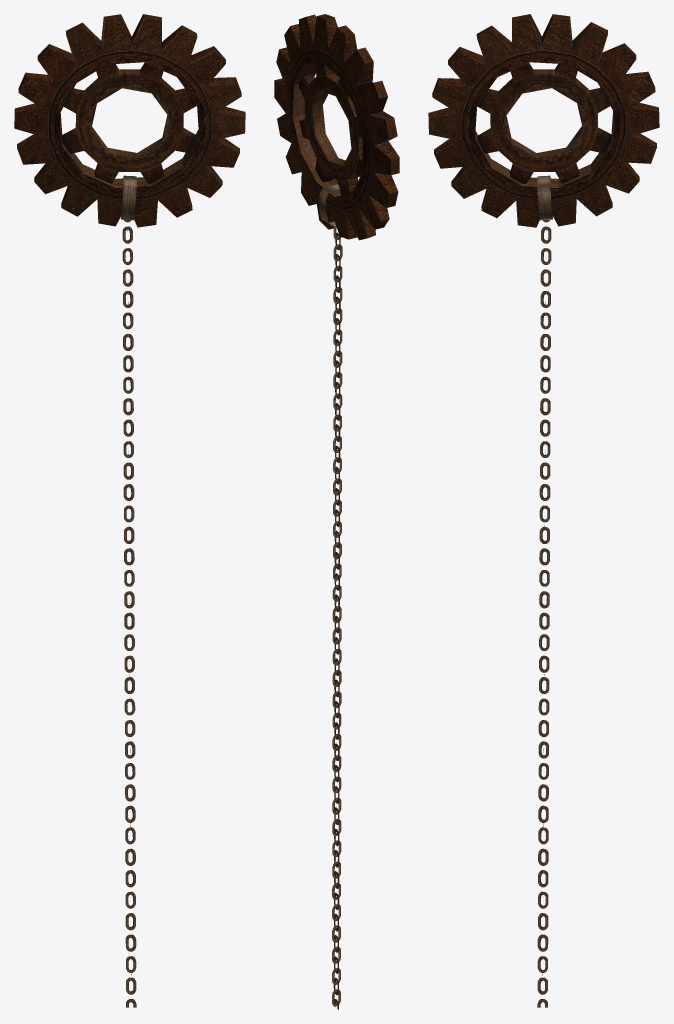
Rendered from gear_club2_5m.fbx.
The picture shows the model from 3 angles, left to right: view 1: azimuth 90°, elevation 25°; view 2: azimuth 210°, elevation 25°; view 3: azimuth 270°, elevation 25°; orthographic projection.
Parts seen in each view (by area): view 1: mesh_0, mesh_1; view 2: mesh_0, mesh_1; view 3: mesh_0, mesh_1.
Part boxes in pixels (<box>): mesh_0: <box>14,14,245,227</box>; mesh_1: <box>121,175,136,1007</box>; mesh_0: <box>274,14,399,240</box>; mesh_1: <box>319,184,342,1009</box>; mesh_0: <box>428,14,659,227</box>; mesh_1: <box>537,175,552,1007</box>.
Bounding box in the file's own units: 20.78 × 638 × 135.
2 materials, 2 textured.
